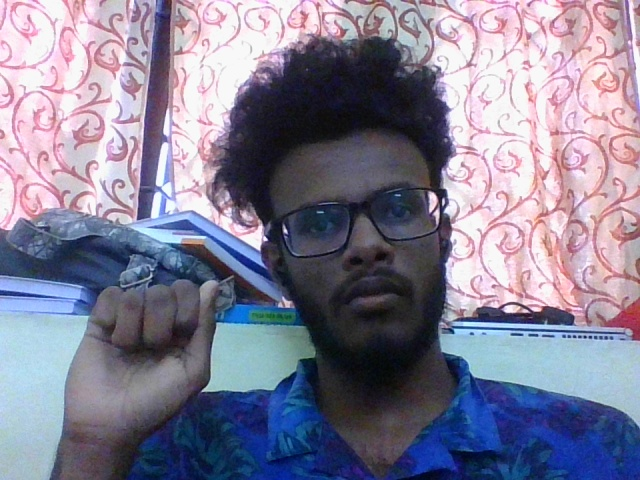yes: (45, 279, 241, 480)
